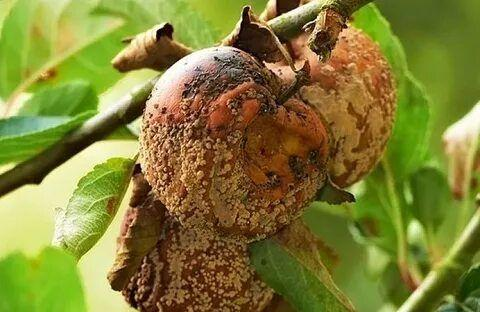Apple: (142, 44, 328, 239)
